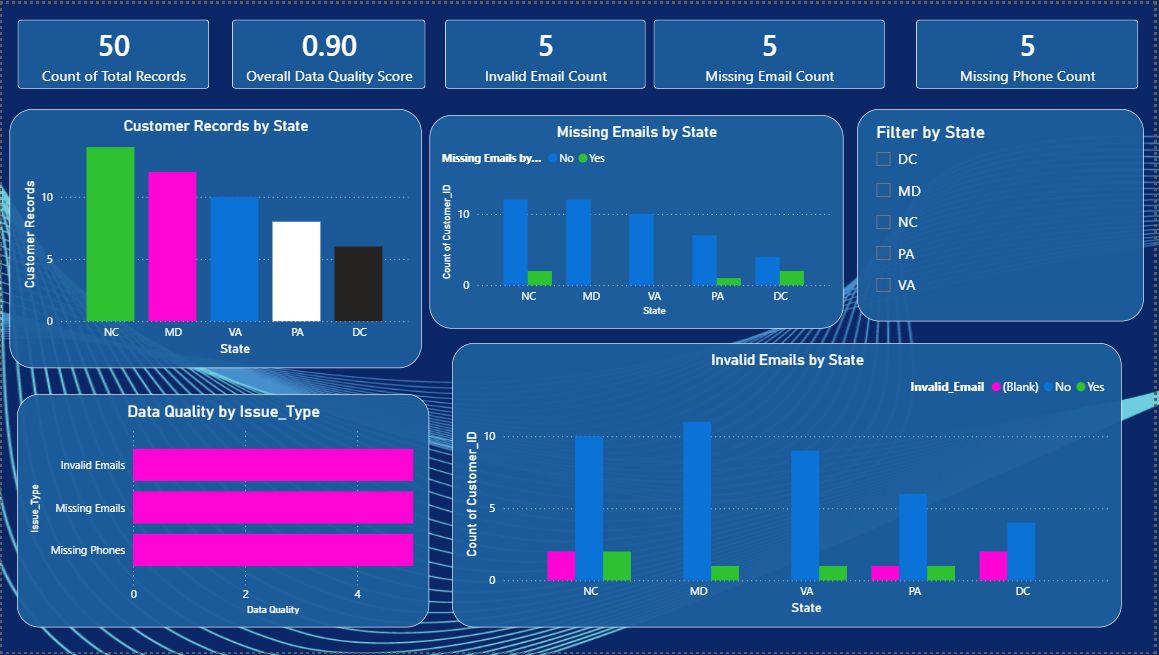

This screenshot's page, from the dashboard's own definition file:
{"tool":"powerbi","page":{"name":"Page 1","canvas":[1280,720],"ordinal":0},"visuals":[{"type":"cardVisual","fields":{"Data":["Customer_Records.Overall Data Quality Score"]},"box":[238.1,0,249.5,111.5],"z":0},{"type":"cardVisual","fields":{"Data":["CountNonNull(Customer_Records.Total Records)"]},"box":[0,0,247.6,111.5],"z":1000},{"type":"cardVisual","fields":{"Data":["Customer_Records.Missing Phone Count"]},"box":[997.8,0,281.6,111.5],"z":2000},{"type":"cardVisual","fields":{"Data":["Customer_Records.Invalid Email Count"]},"box":[474.3,0,257,111.5],"z":3000},{"type":"cardVisual","fields":{"Data":["Customer_Records.Missing Email Count"]},"box":[706.8,0,291,111.5],"z":4000},{"type":"clusteredColumnChart","fields":{"Category":["Customer_Records.State"],"Y":["CountNonNull(Customer_Records.Customer_ID)"]},"box":[8.9,116.7,457.8,287.8],"z":5000},{"type":"barChart","fields":{"Category":["Data_Quality_Issues.Issue_Type"],"Y":["Sum(Data_Quality_Issues.Count)"]},"box":[16.2,434,458.2,259.1],"z":6000},{"type":"clusteredColumnChart","title":"Missing Emails by State","fields":{"Series":["Customer_Records.Missing_Email"],"Category":["Customer_Records.State"],"Y":["CountNonNull(Customer_Records.Customer_ID)"]},"box":[474.3,122.9,460,237.1],"z":7000},{"type":"clusteredColumnChart","title":"Invalid Emails by State","fields":{"Category":["Customer_Records.State"],"Y":["CountNonNull(Customer_Records.Customer_ID)"],"Series":["Customer_Records.Invalid_Email"]},"box":[500,377.1,744.3,315.7],"z":8000},{"type":"slicer","fields":{"Values":["Customer_Records.State"]},"box":[950,117.1,318.6,235.7],"z":9000}]}

Visuals, with their boxes in screenshot pixels (x1, y1, x2, y2), scaled from the page's 1280x720 canvas onto the 1159x655 screenshot:
cardVisual - Customer_Records.Overall Data Quality Score: box(216, 0, 442, 101)
cardVisual - CountNonNull(Customer_Records.Total Records): box(0, 0, 224, 101)
cardVisual - Customer_Records.Missing Phone Count: box(903, 0, 1158, 101)
cardVisual - Customer_Records.Invalid Email Count: box(429, 0, 662, 101)
cardVisual - Customer_Records.Missing Email Count: box(640, 0, 903, 101)
clusteredColumnChart - Customer_Records.State x CountNonNull(Customer_Records.Customer_ID): box(8, 106, 423, 368)
barChart - Data_Quality_Issues.Issue_Type x Sum(Data_Quality_Issues.Count): box(15, 395, 430, 631)
"Missing Emails by State" clusteredColumnChart: box(429, 112, 846, 328)
"Invalid Emails by State" clusteredColumnChart: box(453, 343, 1127, 630)
slicer - Customer_Records.State: box(860, 107, 1149, 321)
